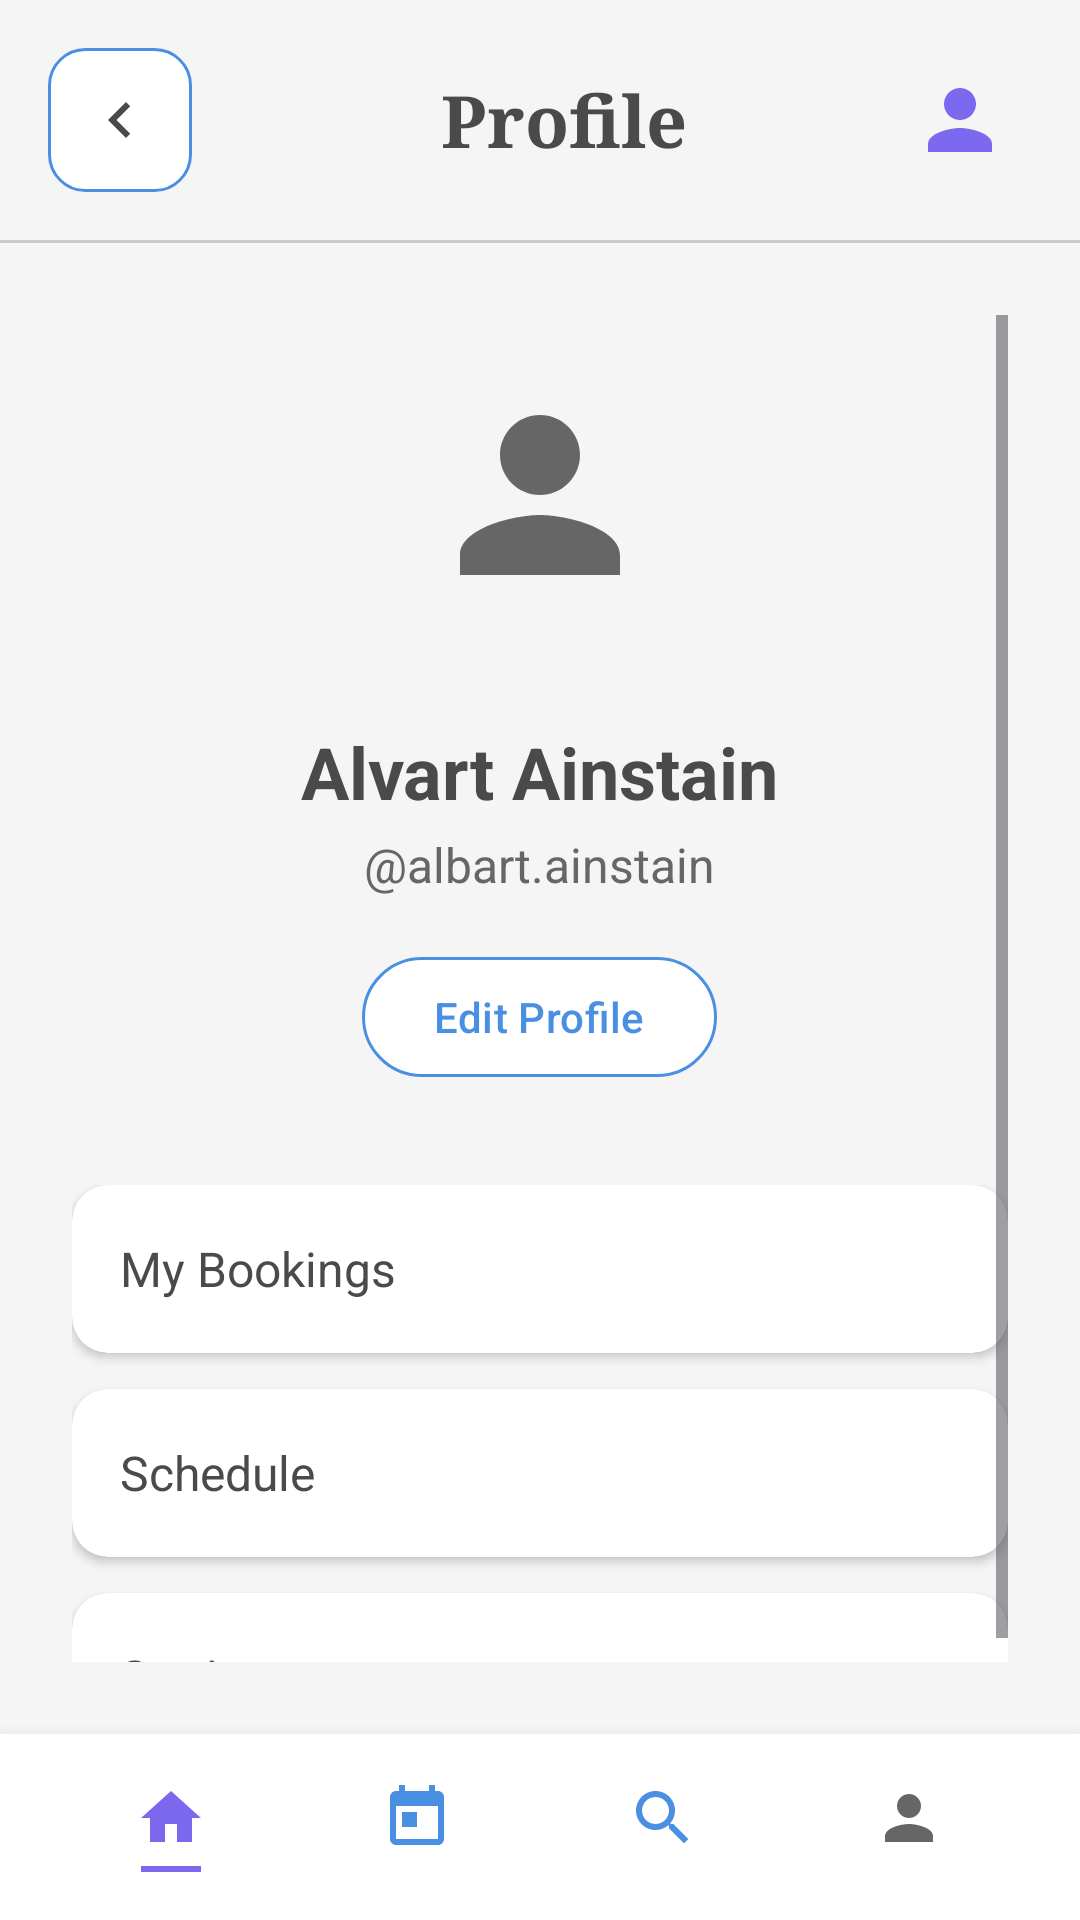

Icon bounding boxes for this 1080*1920 phone screenshot, format (x1, y1, x2, y2):
Back: (48, 48, 192, 192)
Calendar: (390, 1785, 444, 1845)
Home: (141, 1791, 201, 1842)
Search: (636, 1791, 688, 1843)
